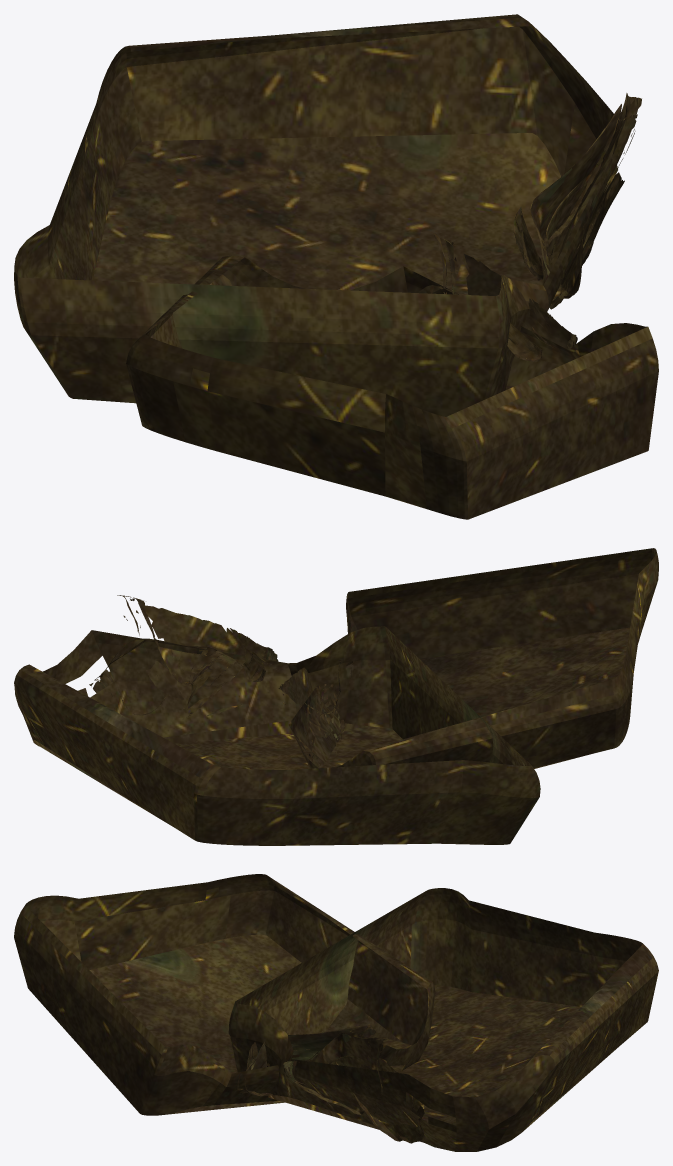
Rendered from GrassTerrain_014_Mud_A_v3.glb.
3 views of the same model, one above another, from view 1: azimuth 30°, elevation 25°; view 2: azimuth 150°, elevation 25°; view 3: azimuth 270°, elevation 25° (orthographic). The views are drawn at different scales.
Parts seen in each view (by area): view 1: 立方体.014_Mud_A; view 2: 立方体.014_Mud_A; view 3: 立方体.014_Mud_A.
Boxes of the visible parts, box(x1,y1,x2,y2) form: 立方体.014_Mud_A: box(14, 14, 658, 519); 立方体.014_Mud_A: box(14, 548, 658, 845); 立方体.014_Mud_A: box(14, 874, 658, 1151).
Size of the model in its own units: 772 by 259 by 1004.
Materials: 1 (1 with a texture image).
